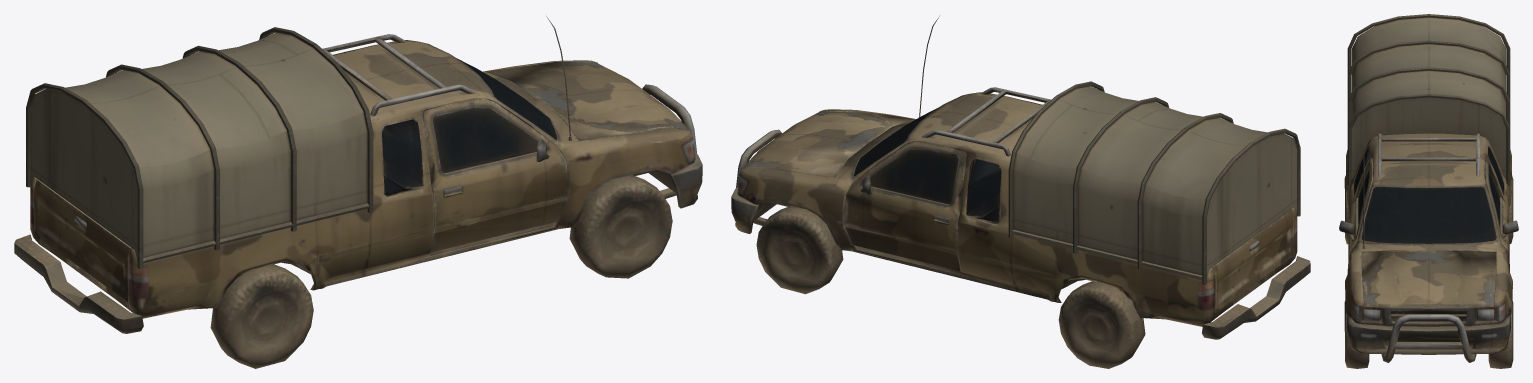
The model's file is fh_battle_e_convoy_pickup_tent.glb.
3 renders of one model, left to right at view 1: azimuth 30°, elevation 25°; view 2: azimuth 150°, elevation 25°; view 3: azimuth 270°, elevation 25°, orthographic. The views are drawn at different scales.
Parts seen in each view (by area): view 1: convoy_pickup_tent, tent, wheel_1r, wheel_fr; view 2: convoy_pickup_tent, tent, wheel_1l, wheel_fl; view 3: convoy_pickup_tent, tent, wheel_fl, wheel_fr, wheel_1l, wheel_1r.
Part boxes in pixels (x1,y1,x2,y2): convoy_pickup_tent: [14, 16, 702, 333]; tent: [26, 27, 373, 268]; wheel_1r: [210, 264, 313, 368]; wheel_fr: [569, 175, 672, 278]; convoy_pickup_tent: [731, 16, 1310, 339]; tent: [1008, 81, 1300, 285]; wheel_1l: [1058, 281, 1145, 368]; wheel_fl: [756, 206, 843, 294]; convoy_pickup_tent: [1339, 133, 1518, 362]; tent: [1347, 14, 1510, 185]; wheel_fl: [1488, 300, 1513, 368]; wheel_fr: [1344, 301, 1369, 368]; wheel_1l: [1509, 175, 1513, 243]; wheel_1r: [1344, 175, 1348, 244].
Size of the model in its own units: 1 by 0.4349 by 0.3618.
Materials: 2 (2 with a texture image).
